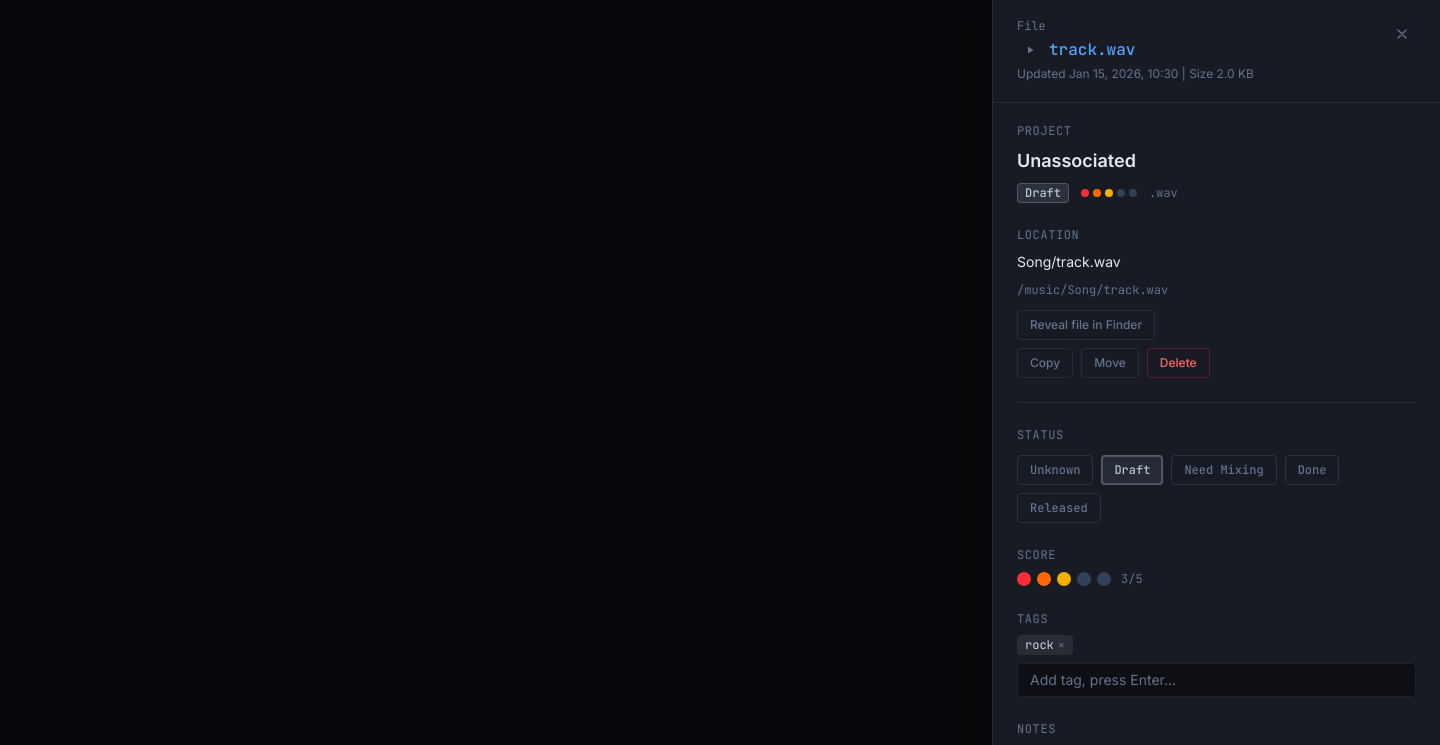
Test case: FileDetailPanel - Saving… indicator › shows a 'Saving…' indicator while a score save is in flight
Check: the text "Saving…" is not shown
Click the radio button named "5 of 5". click: (1104, 579)
box: [1097,572,1111,586]
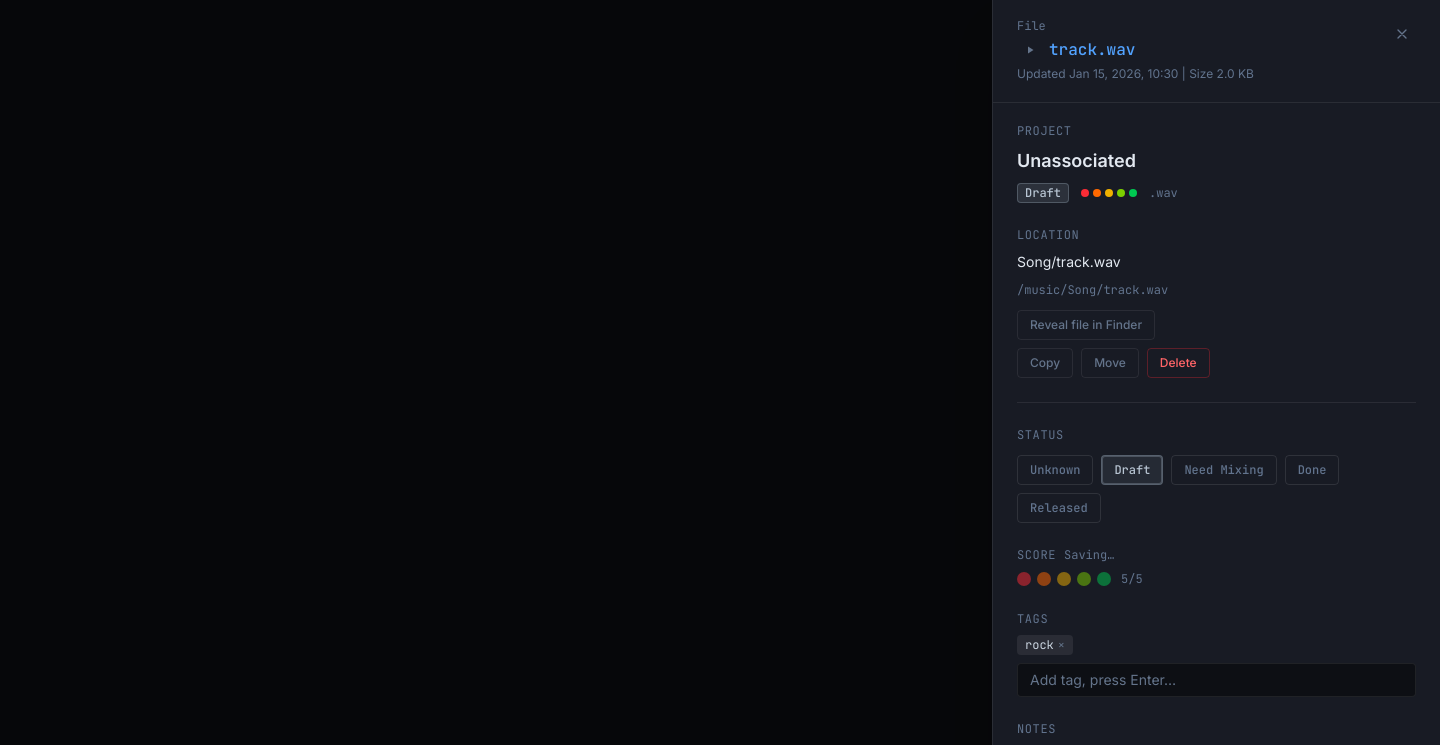
Check: the text "Saving…" is shown, box [1064,547,1114,563]
